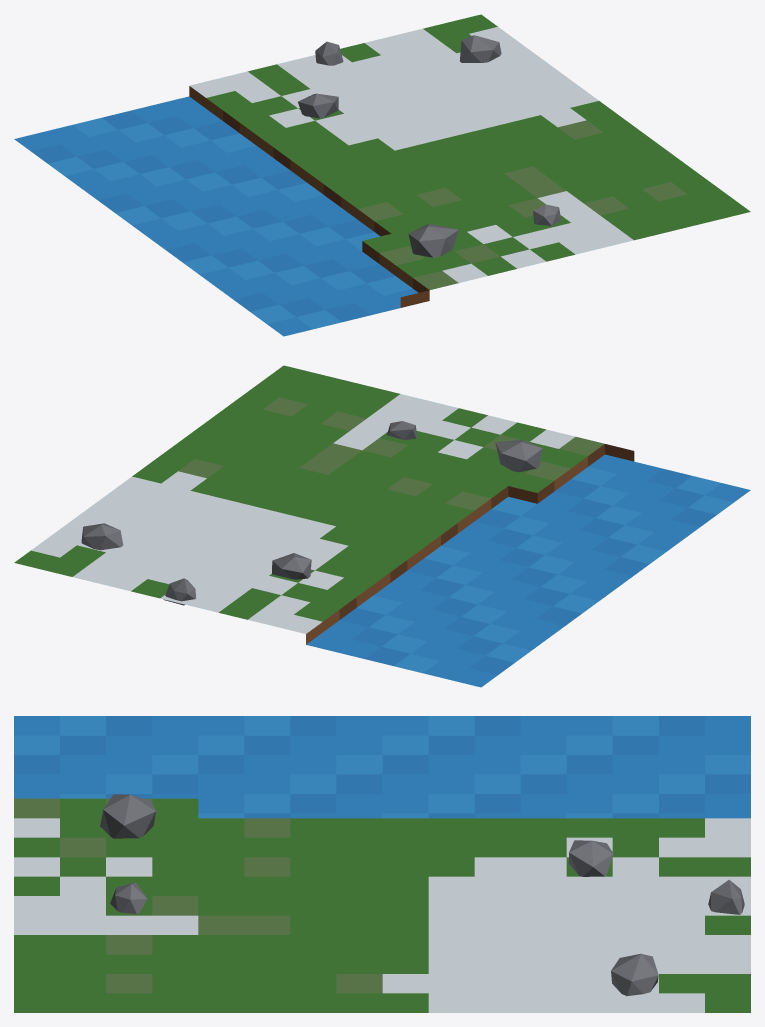
File: chunk_4_1.glb
3 renders of one model, top to bottom at view 1: azimuth 30°, elevation 25°; view 2: azimuth 150°, elevation 25°; view 3: azimuth 270°, elevation 25°, orthographic. The views are drawn at different scales.
Visible parts, largest first — view 1: chunk_4_1; view 2: chunk_4_1; view 3: chunk_4_1.
Part boxes in pixels (x1,y1,x2,y2): chunk_4_1: (14,14,750,336); chunk_4_1: (14,365,750,687); chunk_4_1: (14,716,750,1012).
Size of the model in its own units: 16 by 1.2 by 16.
